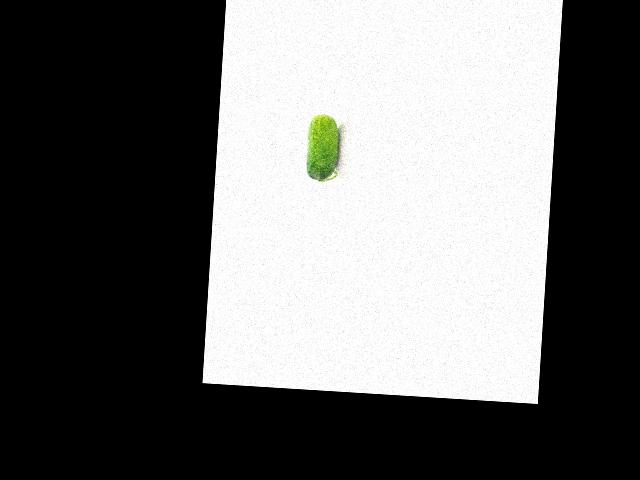cucumber: (305, 112, 341, 182)
